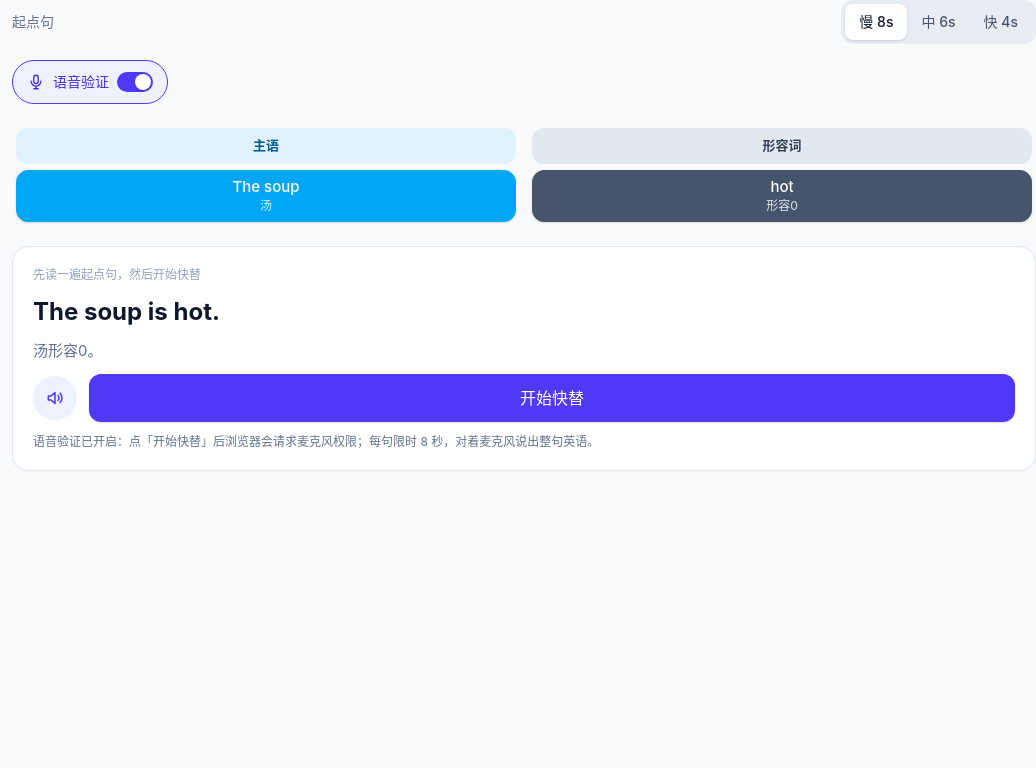
Scenario: SingleSwapDrill voice mode › shows 没有听到 when nothing was recognized
Click the button "开始快替" at [552, 398], box [89, 374, 1015, 422]
Wait 8200 ms
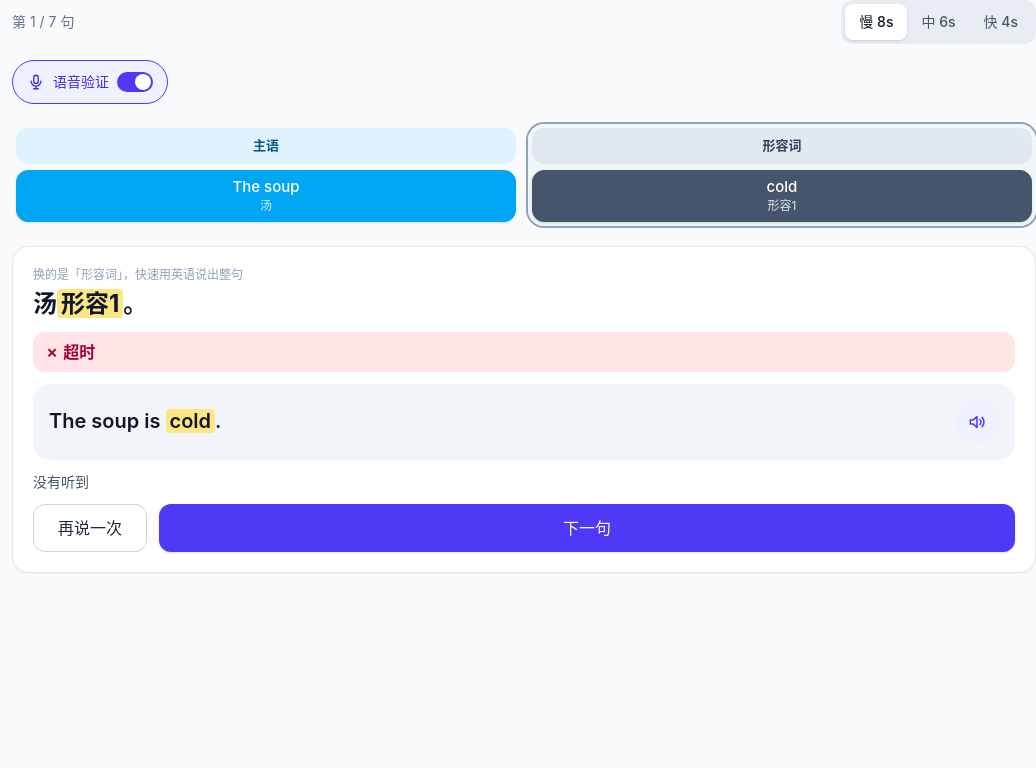
Expected: the message with test id "swap-result" reads "✗ 超时", [33, 332, 1015, 372]
Expected: the element with test id "swap-heard" reads "没有听到", [33, 472, 89, 490]
